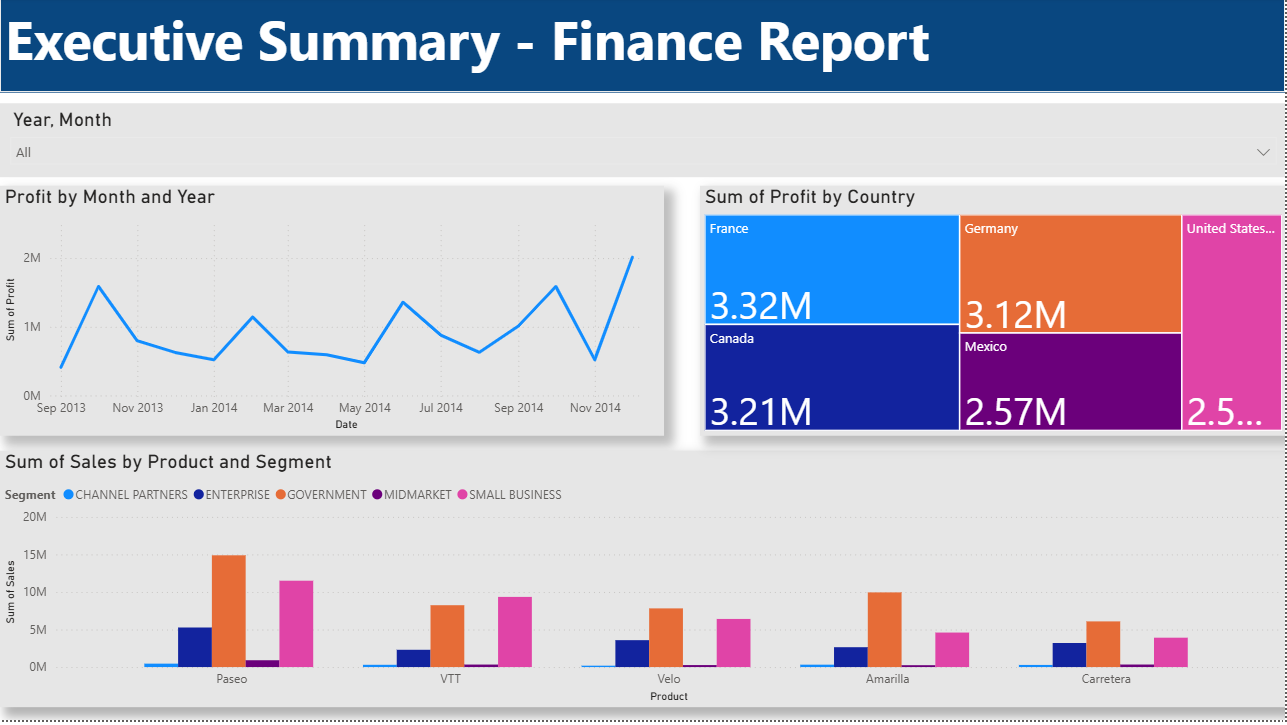

The dashboard page shown, as its layout file describes it:
{"tool":"powerbi","page":{"name":"Page 1","canvas":[1280,720],"ordinal":0},"visuals":[{"type":"shape","box":[695.5,162.7,584.6,257.8],"z":0},{"type":"shape","box":[0,178.6,661,257.8],"z":1000},{"type":"textbox","box":[0,0,1280.2,95],"z":2000},{"type":"lineChart","title":"Profit by Month and Year","fields":{"Category":["Calendar.Date"],"Y":["Sum(financials.Profit)"]},"box":[0,188.2,660.5,248.7],"z":3000},{"type":"clusteredColumnChart","fields":{"Y":["Sum(financials. Sales)"],"Category":["financials.Product"],"Series":["financials.Segment"]},"box":[0,451.3,1280.3,255.3],"z":4000},{"type":"treemap","fields":{"Group":["financials.Country"],"Values":["Sum(financials.Profit)"]},"box":[696.1,188.2,584.2,248.7],"z":5000},{"type":"slicer","fields":{"Values":["Calendar.Date.Variation.Date Hierarchy.Year","Calendar.Date.Variation.Date Hierarchy.Month"]},"box":[0,105.1,1280.2,73.4],"z":6000}]}

Visuals, with their boxes in screenshot pixels (x1, y1, x2, y2), scaled from the page's 1280x720 canvas onto the 1287x725 screenshot:
shape: 699:164:1286:423
shape: 0:180:665:439
textbox: 0:0:1286:96
"Profit by Month and Year" lineChart: 0:190:664:440
clusteredColumnChart - Sum(financials. Sales) x financials.Product: 0:454:1286:712
treemap - financials.Country x Sum(financials.Profit): 700:190:1286:440
slicer - Calendar.Date.Variation.Date Hierarchy.Year x Calendar.Date.Variation.Date Hierarchy.Month: 0:106:1286:180
